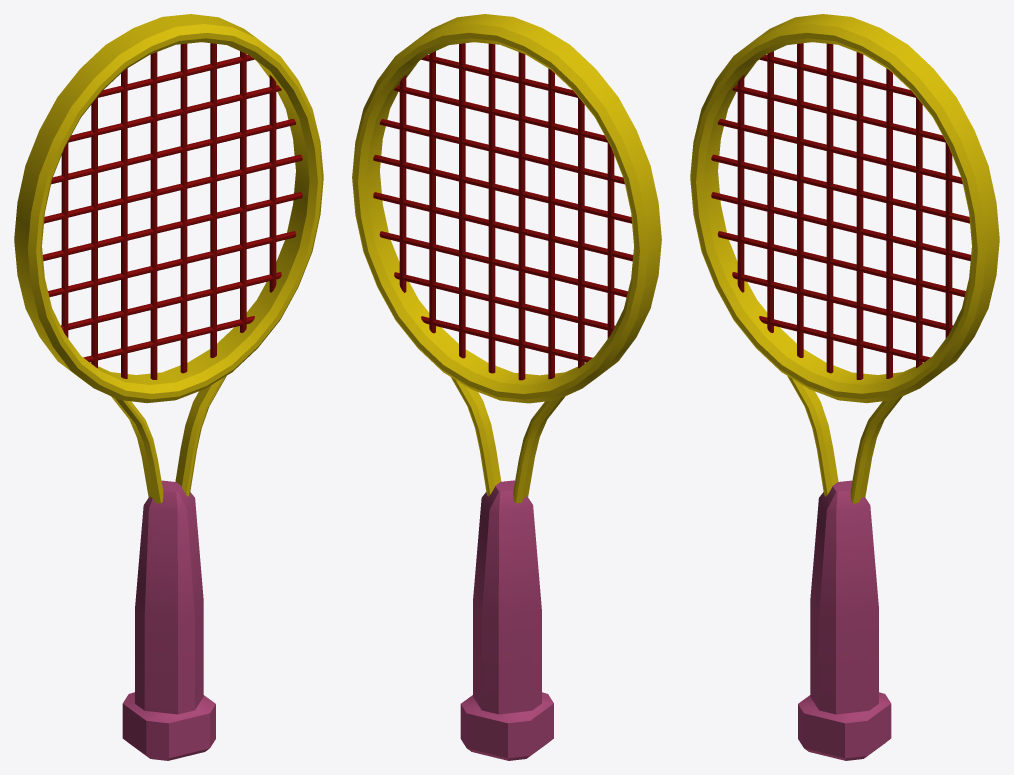
The model's file is Racket.FBX.
The picture shows the model from 3 angles, left to right: view 1: azimuth 30°, elevation 25°; view 2: azimuth 150°, elevation 25°; view 3: azimuth 330°, elevation 25°; orthographic projection.
Visible parts, largest first — view 1: Racket; view 2: Racket; view 3: Racket.
Part boxes in pixels (x1,y1,x2,y2): Racket: [14, 14, 323, 760]; Racket: [352, 14, 661, 760]; Racket: [690, 14, 999, 760].
Size of the model in its own units: 457 by 107 by 1064.
